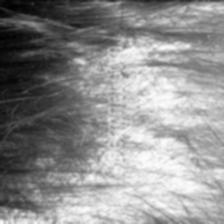Non-Cancerous Skin Condition: (132, 11, 212, 220), (0, 179, 118, 224)
